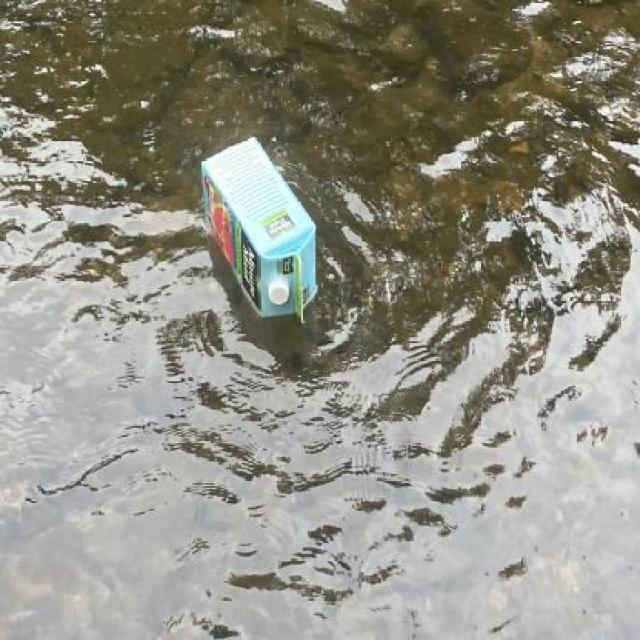Cardboard: (191, 133, 327, 330)
